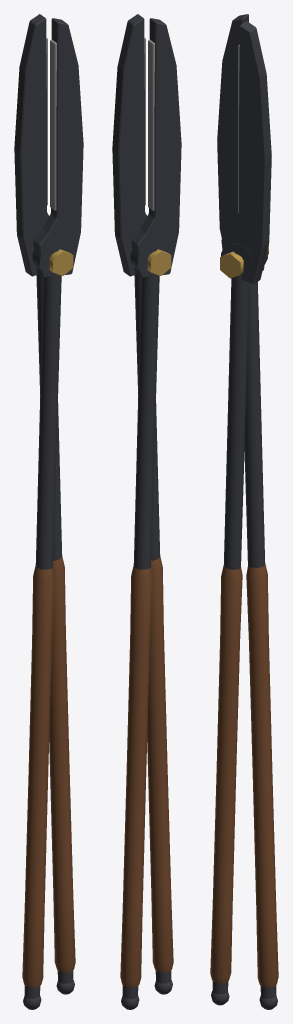
File: tool_scrapcutter.fbx
3 views of the same model, side by side, from view 1: azimuth 30°, elevation 25°; view 2: azimuth 210°, elevation 25°; view 3: azimuth 330°, elevation 25° (orthographic).
Parts seen in each view (by area): view 1: Tool_ScrapCutter_ArmFront, Tool_ScrapCutter_ArmRear, Tool_ScrapCutter_Bolt; view 2: Tool_ScrapCutter_ArmRear, Tool_ScrapCutter_ArmFront, Tool_ScrapCutter_Bolt; view 3: Tool_ScrapCutter_ArmFront, Tool_ScrapCutter_ArmRear, Tool_ScrapCutter_Bolt.
Part boxes in pixels (box(x1,y1,x2,y2)): Tool_ScrapCutter_ArmFront: box(22, 18, 83, 1009); Tool_ScrapCutter_ArmRear: box(14, 14, 75, 994); Tool_ScrapCutter_Bolt: box(49, 249, 73, 275); Tool_ScrapCutter_ArmRear: box(120, 18, 181, 1009); Tool_ScrapCutter_ArmFront: box(112, 14, 173, 994); Tool_ScrapCutter_Bolt: box(147, 249, 171, 275); Tool_ScrapCutter_ArmFront: box(210, 21, 271, 1005); Tool_ScrapCutter_ArmRear: box(217, 14, 278, 1009); Tool_ScrapCutter_Bolt: box(220, 244, 268, 278).
Bounding box in the file's own units: 9.06 × 147 × 7.7.
